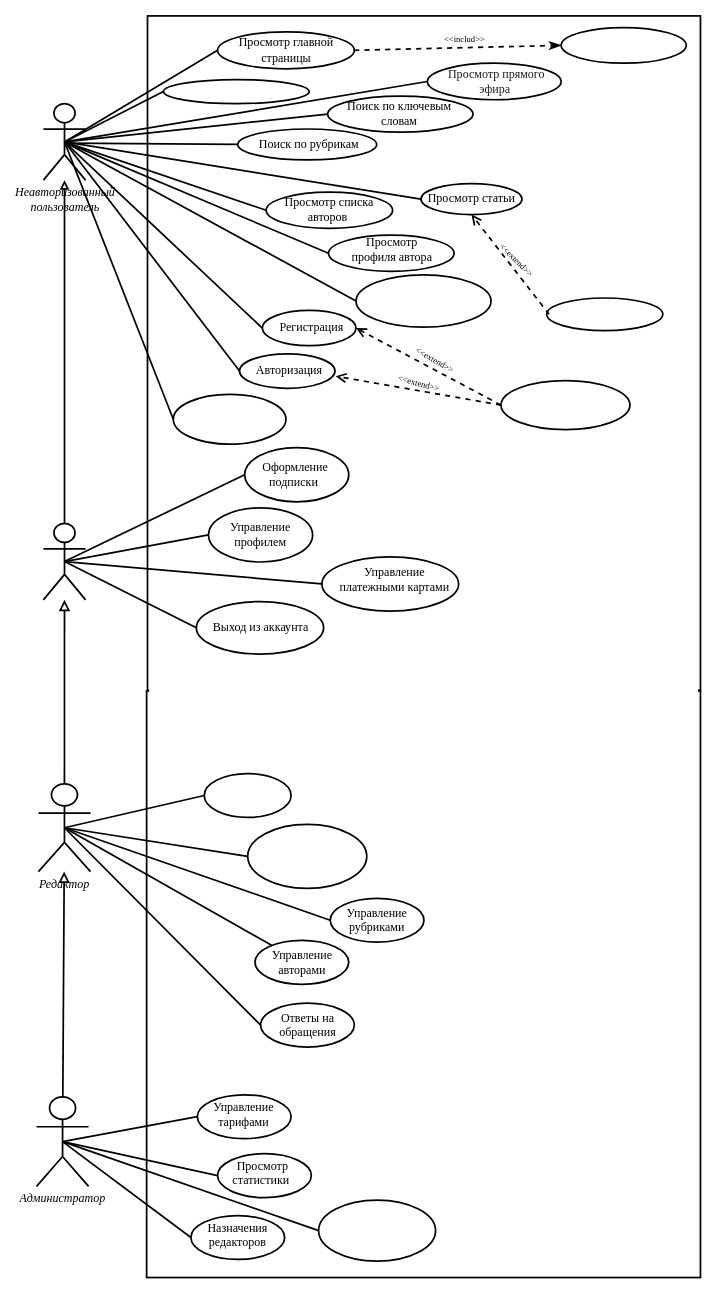
Some shapes in this 716 by 1293 pixel diagram are drawn without their labels. Here are the shapes that lost their labels. From the top down, the box of each, then its label:
(560, 26, 687, 64): Просмотр котировок
(162, 78, 310, 104): Прослушивание радио
(355, 273, 491, 328): Просмотр информации о сайте
(545, 297, 663, 331): Поделится статьей
(172, 393, 286, 445): Обращение в службу поддержки
(500, 379, 630, 430): Авторизация через сторонние сервисы
(42, 522, 86, 600): Авторизованный пользователь
(203, 772, 292, 818): Управление новостями
(246, 823, 367, 889): Управление справочной информацией
(317, 1199, 436, 1262): Экстренная изоляция компонентов
